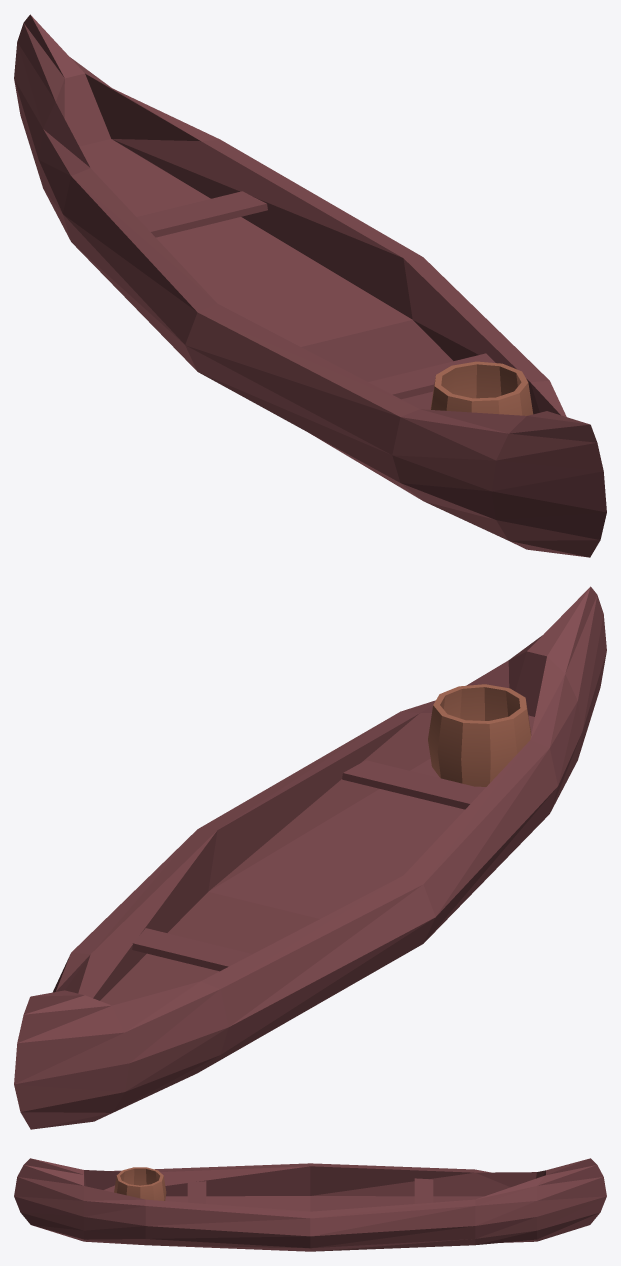
Rendered from Canoe_2.fbx.
The picture shows the model from 3 angles, top to bottom: view 1: azimuth 30°, elevation 25°; view 2: azimuth 150°, elevation 25°; view 3: azimuth 270°, elevation 25°; orthographic projection. The views are drawn at different scales.
Visible parts, largest first — view 1: polySurface4, polySurface3, polySurface1, polySurface2; view 2: polySurface4, polySurface3, polySurface2, polySurface1; view 3: polySurface4, polySurface3, polySurface1, polySurface2.
Boxes of the visible parts, left/top/right/bottom form: polySurface4: left=14, top=14, right=606, bottom=557; polySurface3: left=430, top=361, right=533, bottom=415; polySurface1: left=137, top=191, right=267, bottom=237; polySurface2: left=368, top=353, right=495, bottom=399; polySurface4: left=14, top=586, right=606, bottom=1129; polySurface3: left=428, top=684, right=531, bottom=786; polySurface2: left=342, top=760, right=483, bottom=809; polySurface1: left=132, top=928, right=252, bottom=971; polySurface4: left=14, top=1158, right=606, bottom=1251; polySurface3: left=114, top=1167, right=166, bottom=1200; polySurface1: left=414, top=1178, right=433, bottom=1203; polySurface2: left=187, top=1181, right=206, bottom=1203.
Size of the model in its own units: 3.83 by 2.36 by 15.67.
